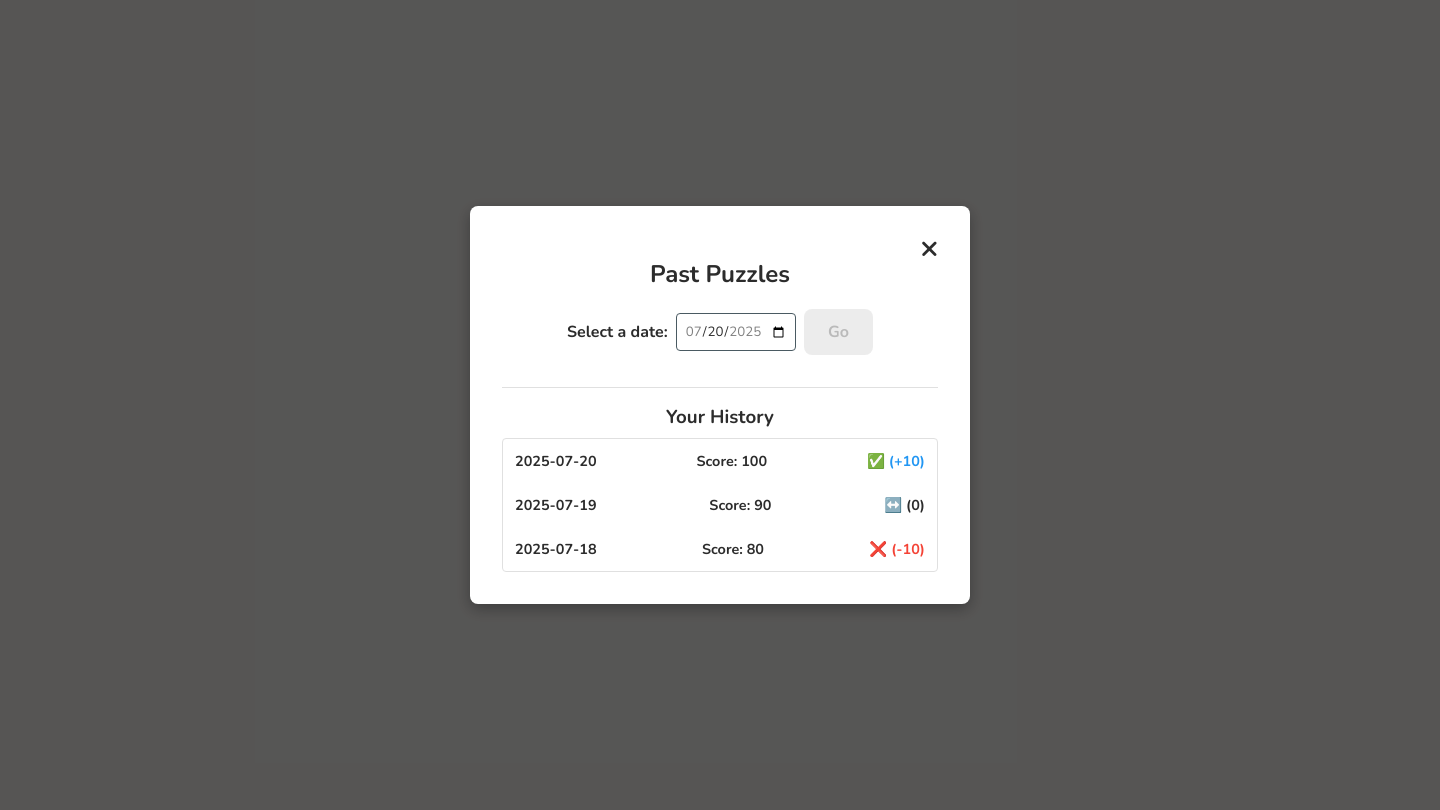
Test case: ArchivesModal › should enable Go button only when date is changed
Expected: the button "Go" is disabled, [804, 309, 873, 355]
In the date field labelled "Select a date:": x=736, y=332 [676, 313, 796, 351], type "2025-07-15"
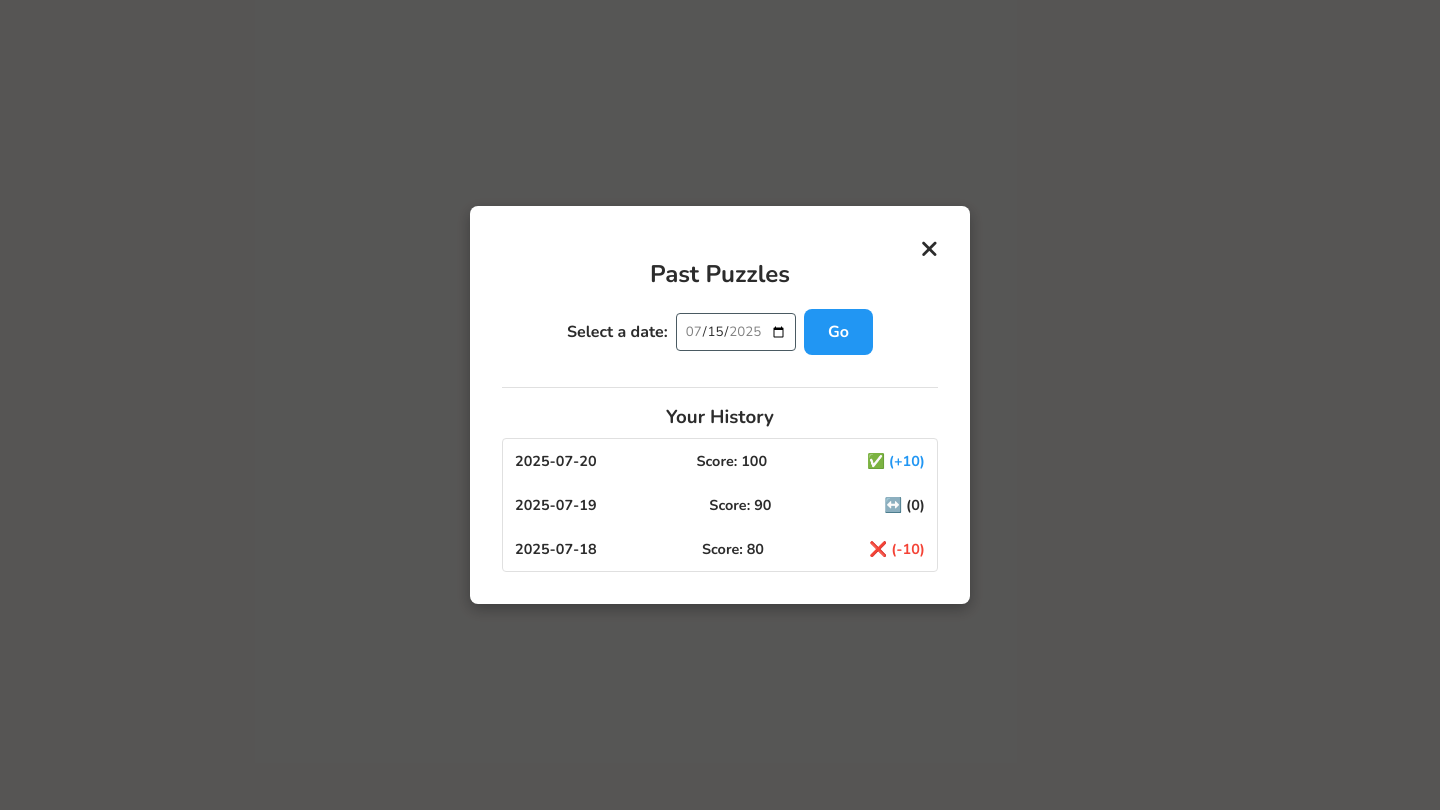
Now the button "Go" is enabled, box [804, 309, 873, 355]
